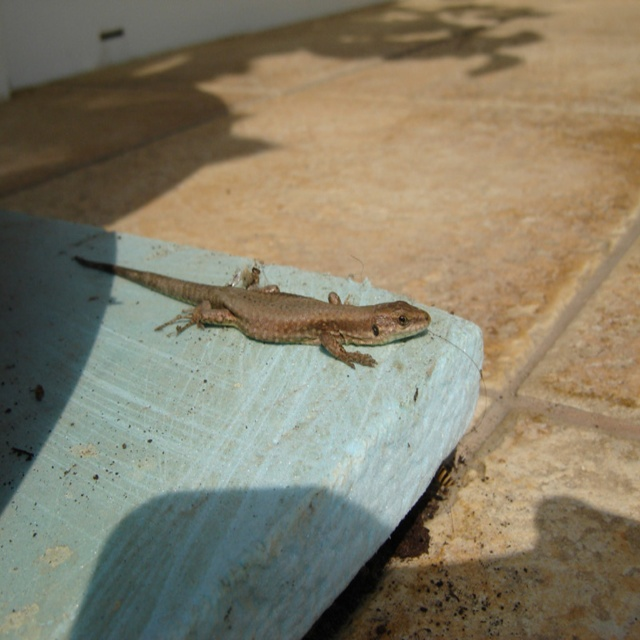Lizard: (75, 258, 428, 367)
